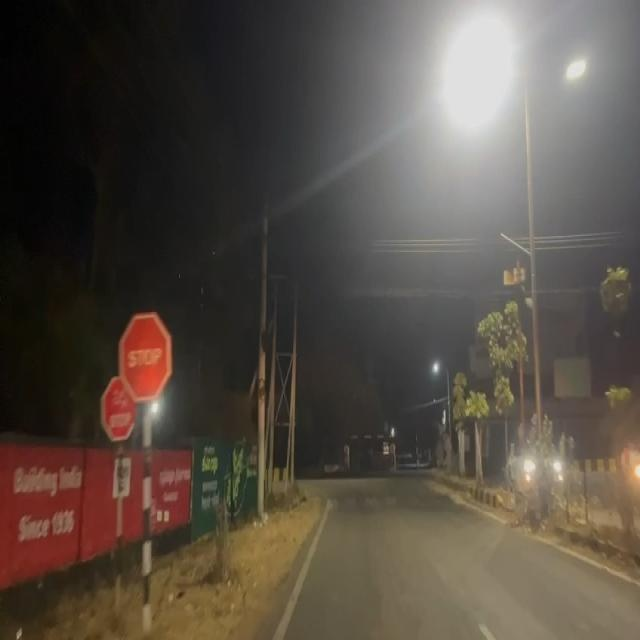bien_nguy_hiem: (118, 310, 174, 400), (98, 373, 136, 445)
